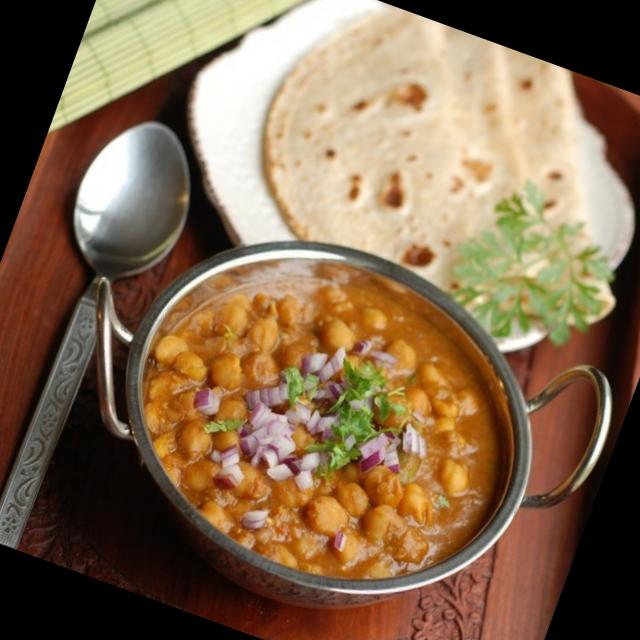Chole: (100, 229, 546, 624)
